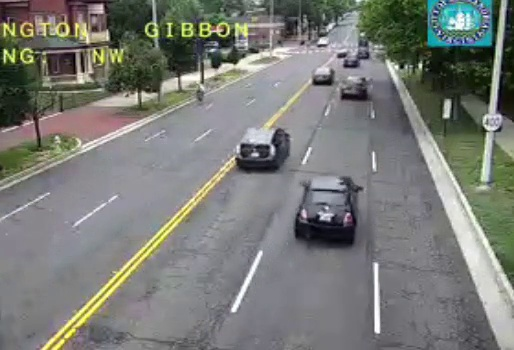car: (296, 175, 357, 233), (235, 128, 288, 171), (341, 78, 367, 98), (313, 67, 333, 84)
